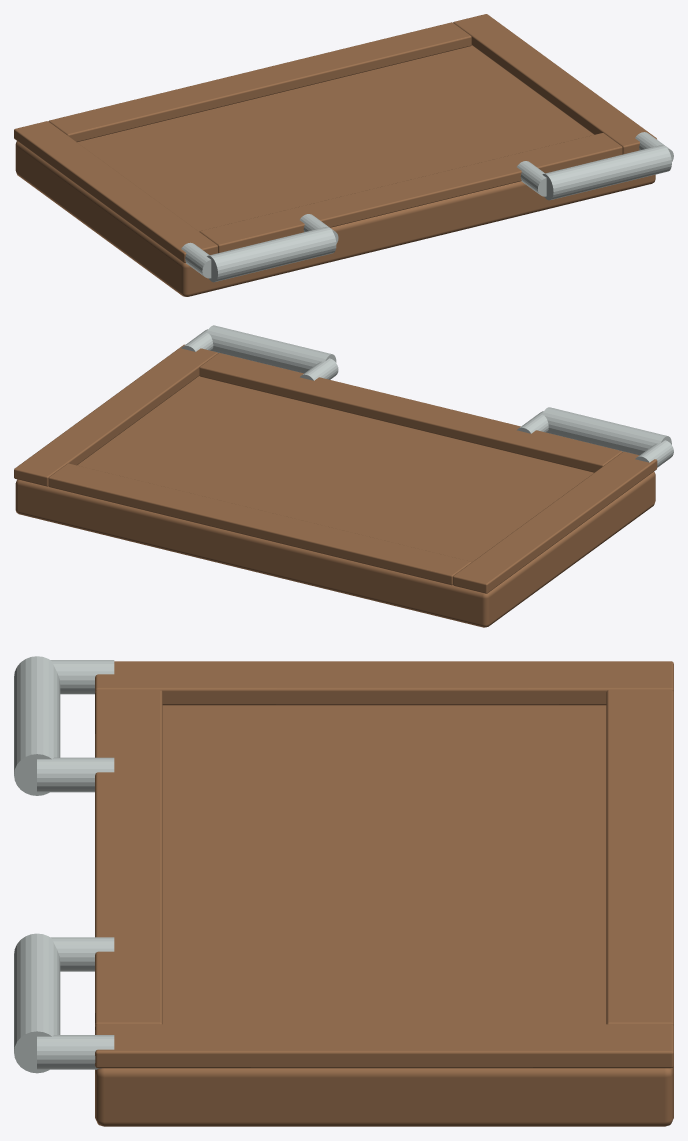
File: tea-garden-and-processing-house-tea-garden-and-process-96b5c299__30789.glb
3 views of the same model, one above another, from view 1: azimuth 30°, elevation 25°; view 2: azimuth 150°, elevation 25°; view 3: azimuth 270°, elevation 25° (orthographic). The views are drawn at different scales.
Visible parts, largest first — view 1: tea-garden-and-processing-house-sample-tray; view 2: tea-garden-and-processing-house-sample-tray; view 3: tea-garden-and-processing-house-sample-tray.
Part boxes in pixels (<box>): tea-garden-and-processing-house-sample-tray: <box>14,14,673,296</box>; tea-garden-and-processing-house-sample-tray: <box>14,325,673,627</box>; tea-garden-and-processing-house-sample-tray: <box>14,656,673,1126</box>.
Bounding box in the file's own units: 0.48 × 0.052 × 0.342.
